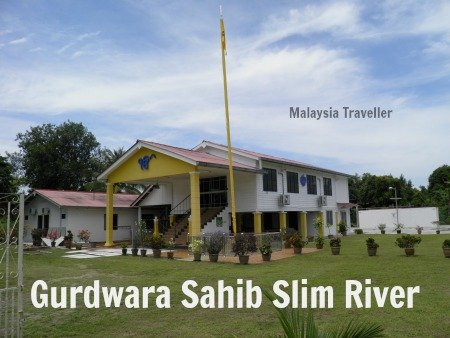Gurdwara: (92, 133, 357, 249)
